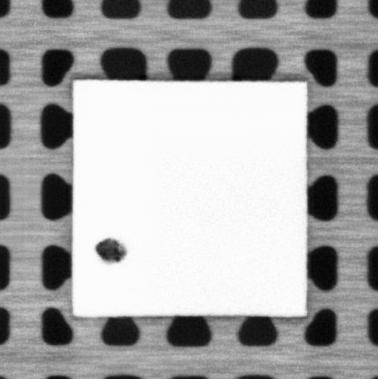DIE_INK: (93, 236, 126, 264)
